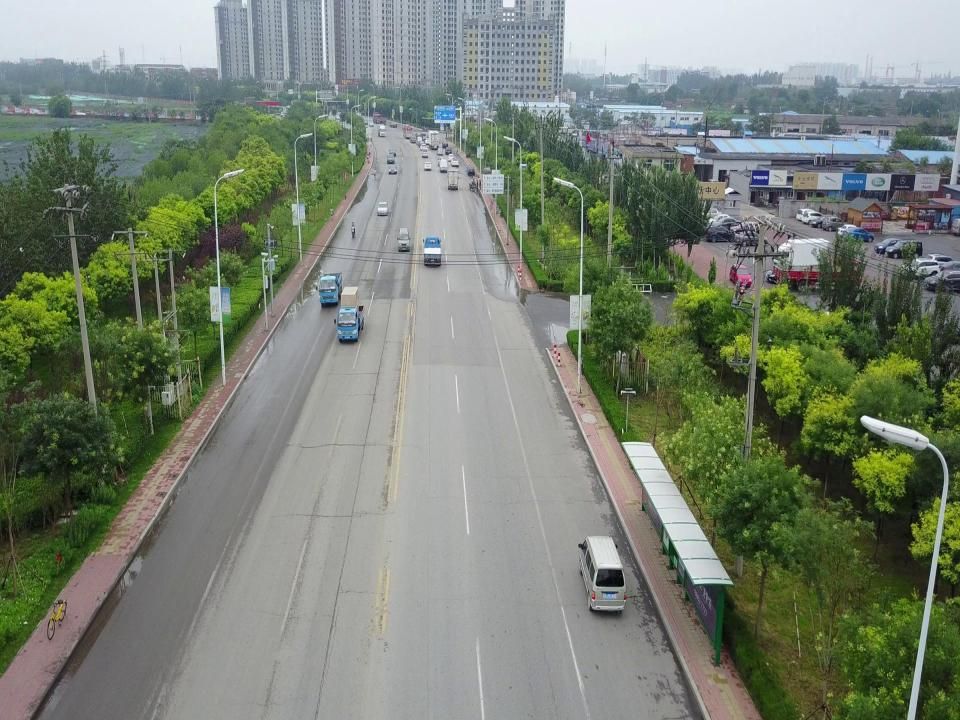bus: (402, 126, 413, 139)
car: (924, 270, 960, 294), (903, 257, 940, 279), (887, 241, 923, 259), (925, 254, 957, 273), (730, 264, 752, 290), (734, 230, 768, 246), (704, 227, 736, 242), (937, 259, 960, 279), (766, 267, 792, 284), (731, 222, 760, 237), (874, 239, 904, 253), (712, 217, 744, 230), (822, 216, 848, 231), (850, 227, 874, 243), (810, 214, 838, 227), (698, 208, 723, 221), (838, 223, 860, 237), (706, 215, 734, 226), (796, 209, 818, 220), (802, 212, 824, 223), (377, 202, 388, 216), (466, 165, 476, 175), (423, 161, 431, 171), (388, 165, 396, 174), (387, 154, 395, 163), (450, 158, 458, 167), (437, 157, 445, 166), (389, 147, 396, 157), (444, 146, 452, 154), (410, 136, 417, 143), (389, 122, 397, 128), (402, 124, 410, 130), (448, 153, 454, 161), (368, 121, 374, 128), (442, 142, 449, 148), (437, 149, 443, 155), (420, 144, 426, 150), (418, 142, 424, 148), (415, 132, 421, 138), (424, 139, 430, 144), (364, 120, 368, 126), (423, 136, 427, 142)
truck: (773, 259, 861, 290), (772, 238, 835, 281), (334, 287, 364, 343), (316, 273, 342, 306), (423, 235, 443, 266), (447, 169, 459, 191), (427, 131, 439, 149), (372, 112, 386, 125), (377, 124, 386, 137)
van: (577, 537, 626, 612), (396, 227, 410, 253), (439, 158, 447, 172), (422, 148, 428, 159), (416, 136, 422, 144), (420, 133, 426, 140)
